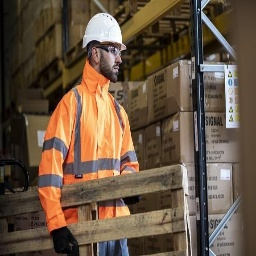helmet: (79, 9, 128, 56)
person: (37, 11, 147, 256)
vest: (39, 72, 146, 174)
